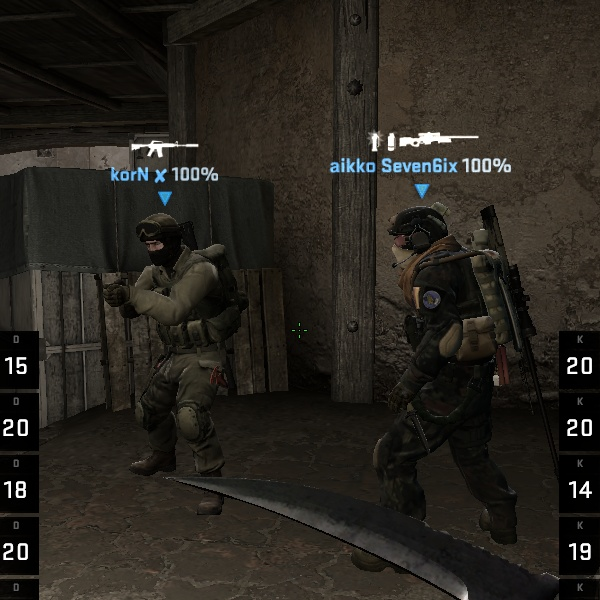ct_body: (334, 188, 527, 547), (102, 204, 244, 486)
ct_head: (382, 193, 464, 271), (129, 207, 194, 271)
